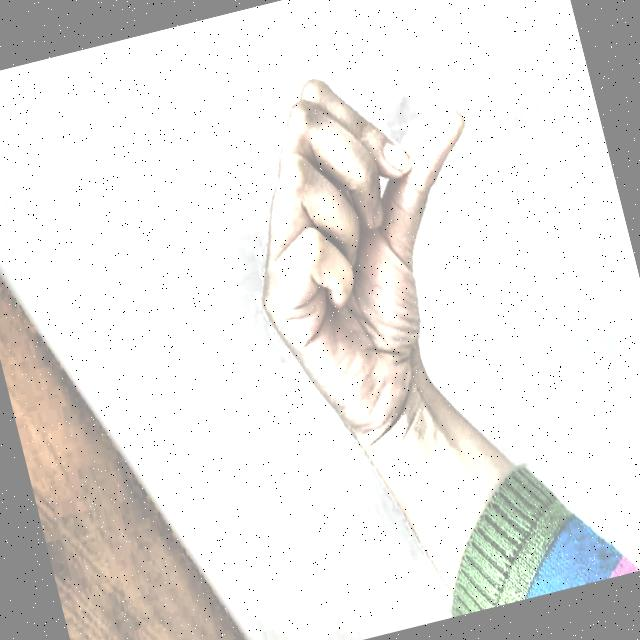Ay: (183, 21, 555, 468)
